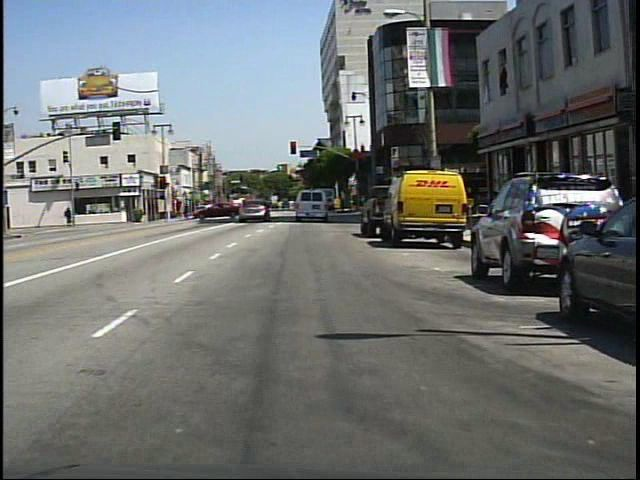person: (260, 194, 278, 224), (63, 205, 73, 225)
